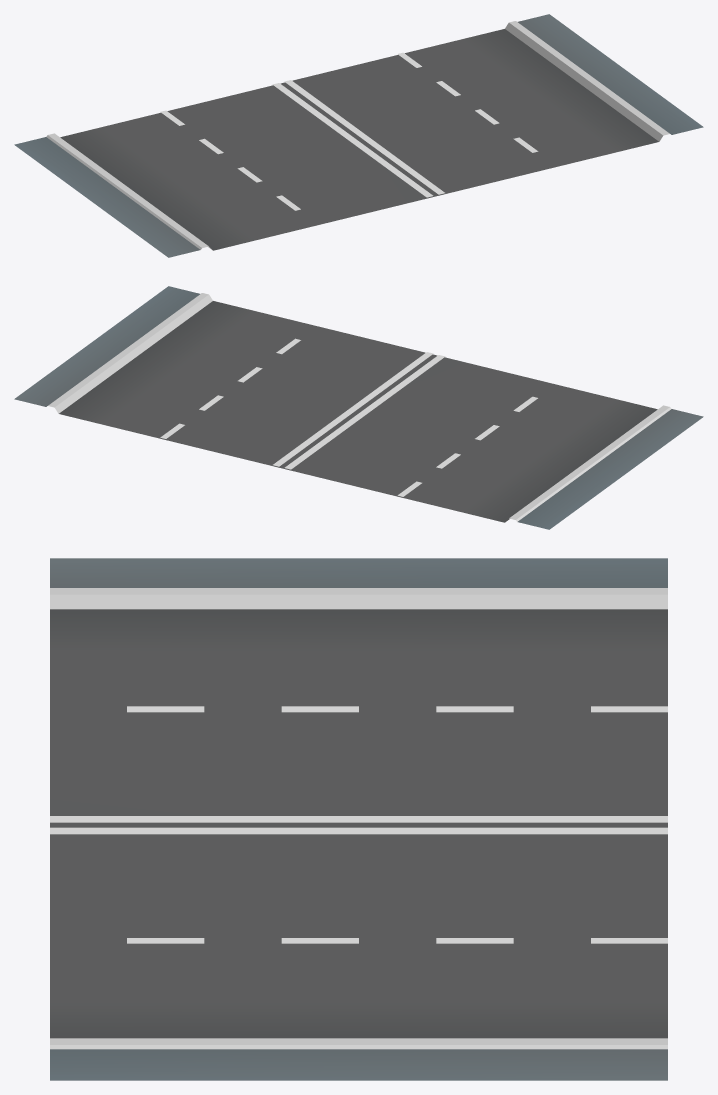
Rendered from OnewayRoad01.fbx.
3 views of the same model, one above another, from view 1: azimuth 30°, elevation 25°; view 2: azimuth 150°, elevation 25°; view 3: azimuth 270°, elevation 25° (orthographic). The views are drawn at different scales.
Parts seen in each view (by area): view 1: SRoad02.001; view 2: SRoad02.001; view 3: SRoad02.001.
Boxes of the visible parts, x1,y1,x2,y2 form: SRoad02.001: (14,14,703,257); SRoad02.001: (14,286,703,529); SRoad02.001: (50,558,667,1080).
Bounding box in the file's own units: 6 × 0.0569 × 3.
